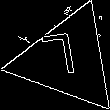L_S: (47, 32, 88, 88)
